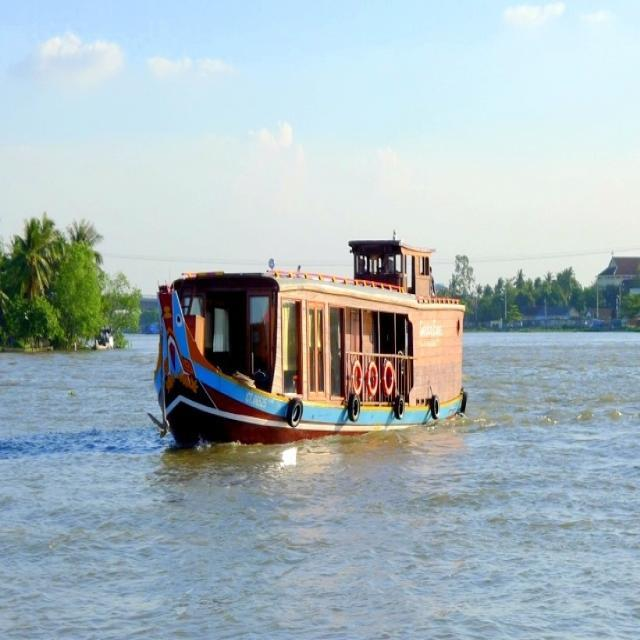boat: (129, 228, 495, 441)
